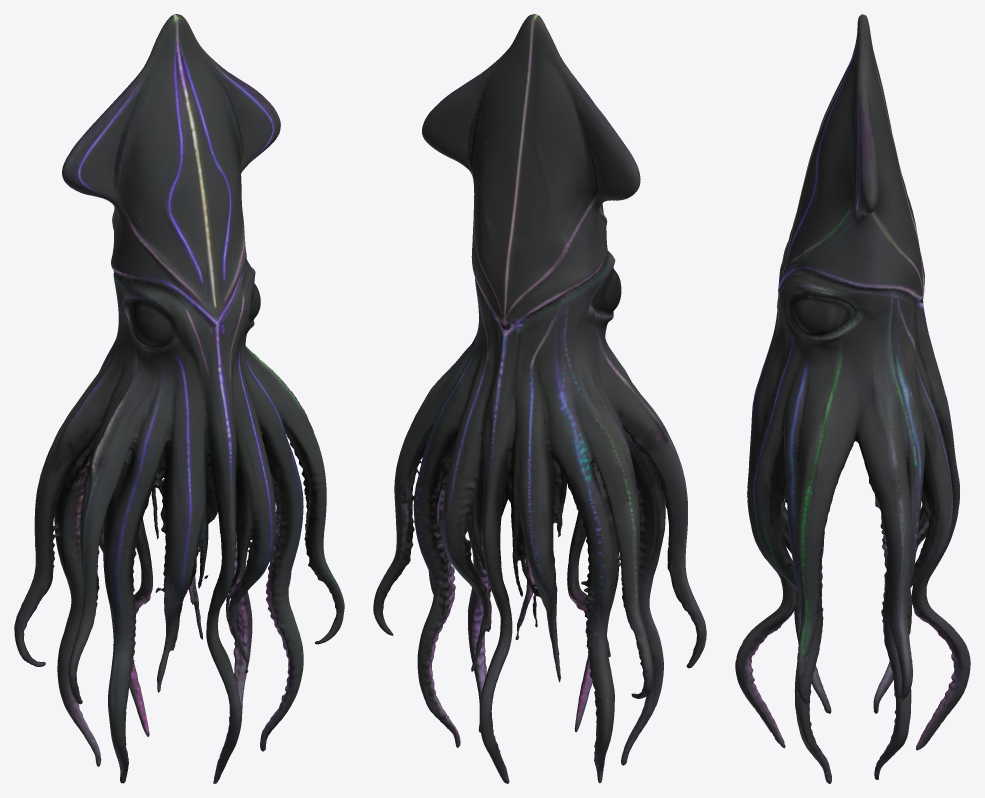
The model's file is PERSONAJE_GLB.glb.
The picture shows the model from 3 angles, left to right: view 1: azimuth 30°, elevation 25°; view 2: azimuth 150°, elevation 25°; view 3: azimuth 270°, elevation 25°; orthographic projection.
Size of the model in its own units: 0.7778 by 2 by 0.5798.
Materials: 1 (1 with a texture image).
